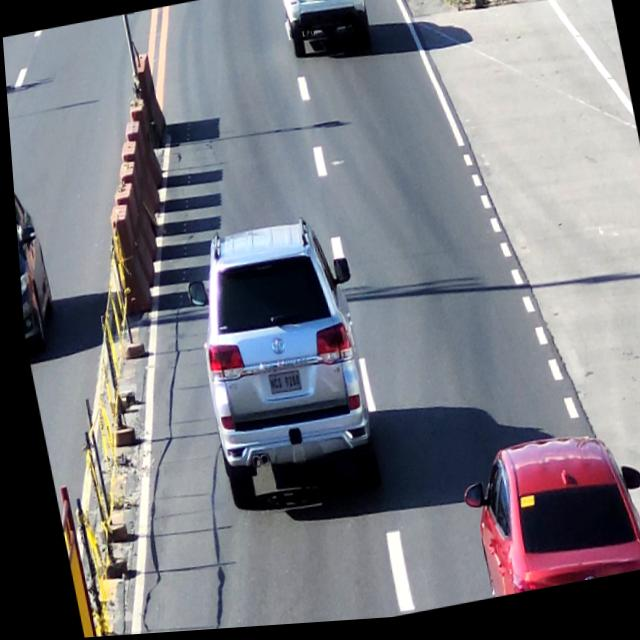Car: (173, 207, 389, 527), (447, 429, 640, 605), (9, 160, 59, 360), (276, 0, 375, 66)
License-Plate: (258, 367, 301, 404)
